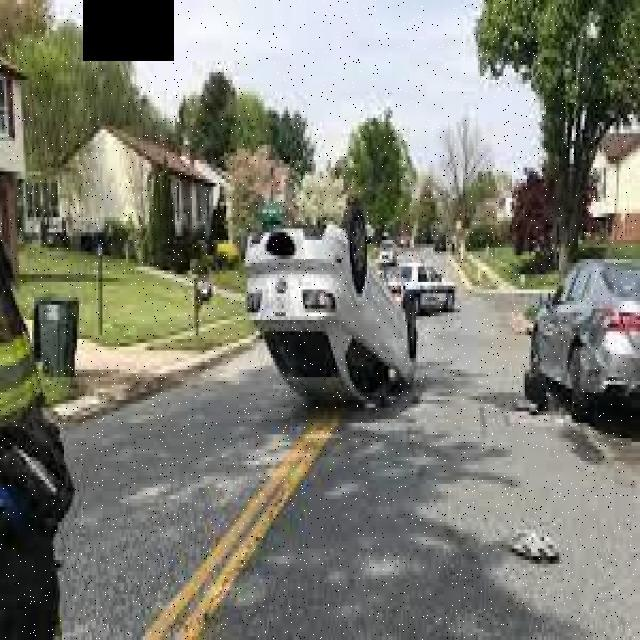severe: (230, 192, 423, 418)
